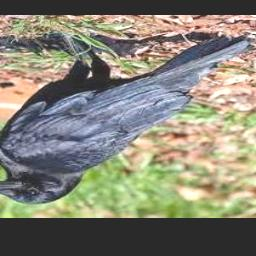Crow: (0, 34, 251, 206)
